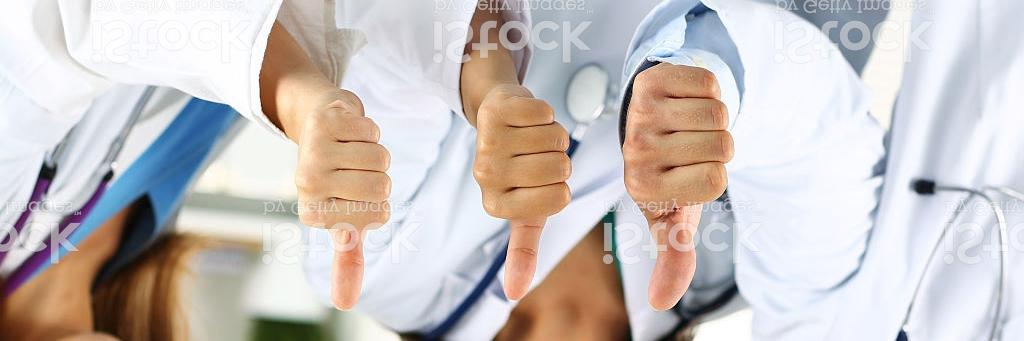thumbsdown: (620, 61, 737, 312), (471, 81, 576, 303), (292, 87, 395, 313)
